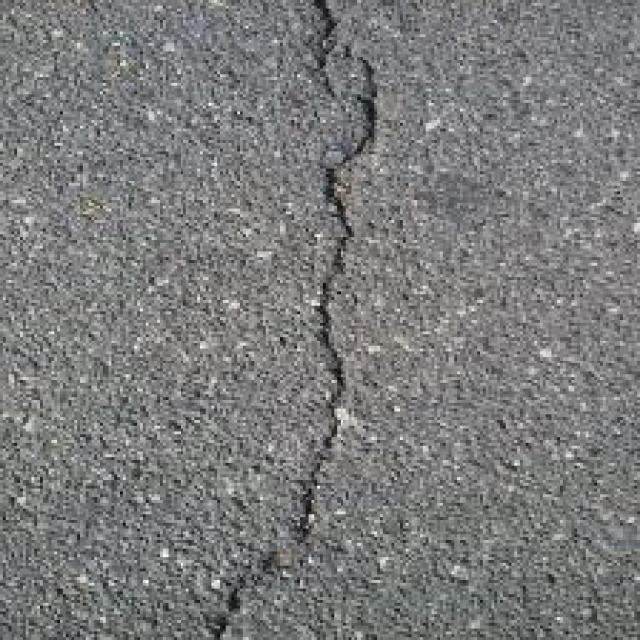Crack: (156, 0, 418, 640)
